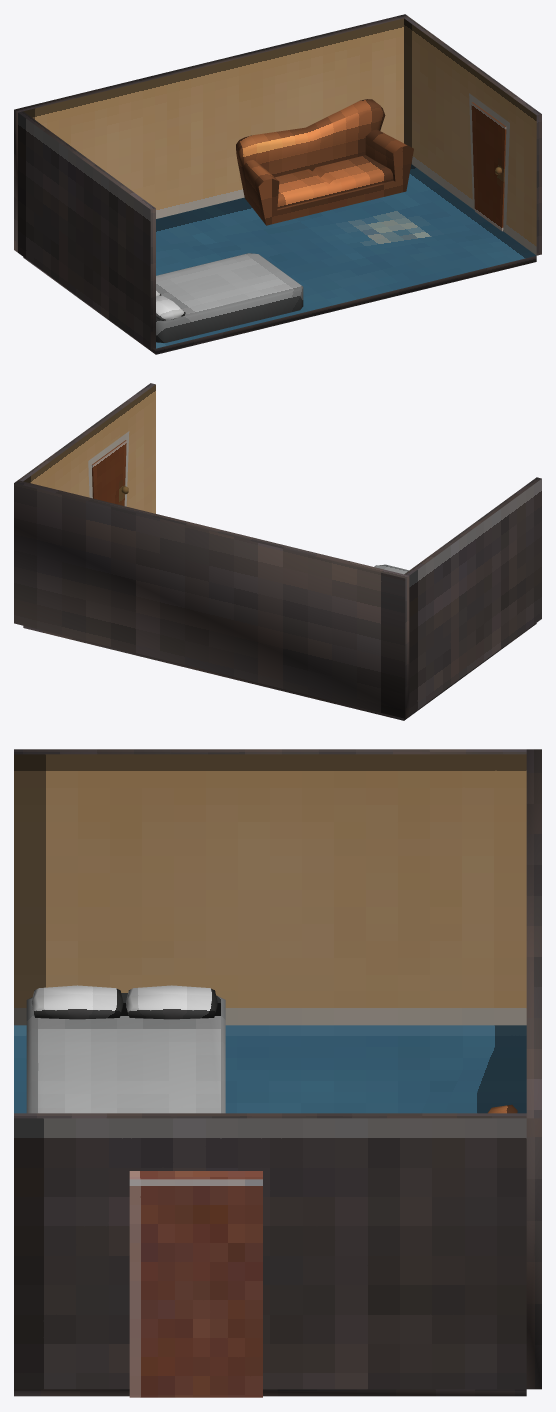
The model's file is RoomImport4.fbx.
The picture shows the model from 3 angles, top to bottom: view 1: azimuth 30°, elevation 25°; view 2: azimuth 150°, elevation 25°; view 3: azimuth 270°, elevation 25°; orthographic projection. The views are drawn at different scales.
Visible parts, largest first — view 1: polymsh_detached6, polymsh_detached2, Room, Sofa, polymsh_detached, Mattress, Door, polymsh_detached7, polymsh_detached5, polymsh_detached1, polymsh_detached3; view 2: polymsh_detached5, Room, polymsh_detached, Door, polymsh_detached7, polymsh_detached1, polymsh_detached3; view 3: polymsh_detached8, polymsh_detached1, BrickWall, polymsh_detached2, Mattress, polymsh_detached5, Room, polymsh_detached7.
Part boxes in pixels (left/top/right/bottom): polymsh_detached6: left=23, top=18, right=403, bottom=218; polymsh_detached2: left=156, top=164, right=536, bottom=348; Room: left=18, top=111, right=155, bottom=349; Sofa: left=236, top=99, right=413, bottom=225; polymsh_detached: left=404, top=18, right=536, bottom=255; Mattress: left=156, top=253, right=303, bottom=342; Door: left=471, top=102, right=506, bottom=231; polymsh_detached7: left=23, top=256, right=536, bottom=354; polymsh_detached5: left=14, top=14, right=408, bottom=252; polymsh_detached1: left=404, top=17, right=541, bottom=255; polymsh_detached3: left=469, top=93, right=509, bottom=232; polymsh_detached5: left=14, top=480, right=409, bottom=718; Room: left=404, top=477, right=541, bottom=715; polymsh_detached: left=23, top=384, right=155, bottom=513; Door: left=91, top=440, right=128, bottom=505; polymsh_detached7: left=23, top=623, right=536, bottom=720; polymsh_detached1: left=18, top=383, right=155, bottom=481; polymsh_detached3: left=88, top=431, right=129, bottom=506; polymsh_detached8: left=14, top=754, right=526, bottom=1025; polymsh_detached1: left=14, top=1113, right=526, bottom=1389; BrickWall: left=129, top=1171, right=262, bottom=1397; polymsh_detached2: left=14, top=1025, right=526, bottom=1113; Mattress: left=26, top=985, right=225, bottom=1113; polymsh_detached5: left=526, top=749, right=541, bottom=1389; Room: left=14, top=749, right=526, bottom=754; polymsh_detached7: left=14, top=1389, right=526, bottom=1396.
Size of the model in its own units: 13.93 by 4.87 by 8.24.
